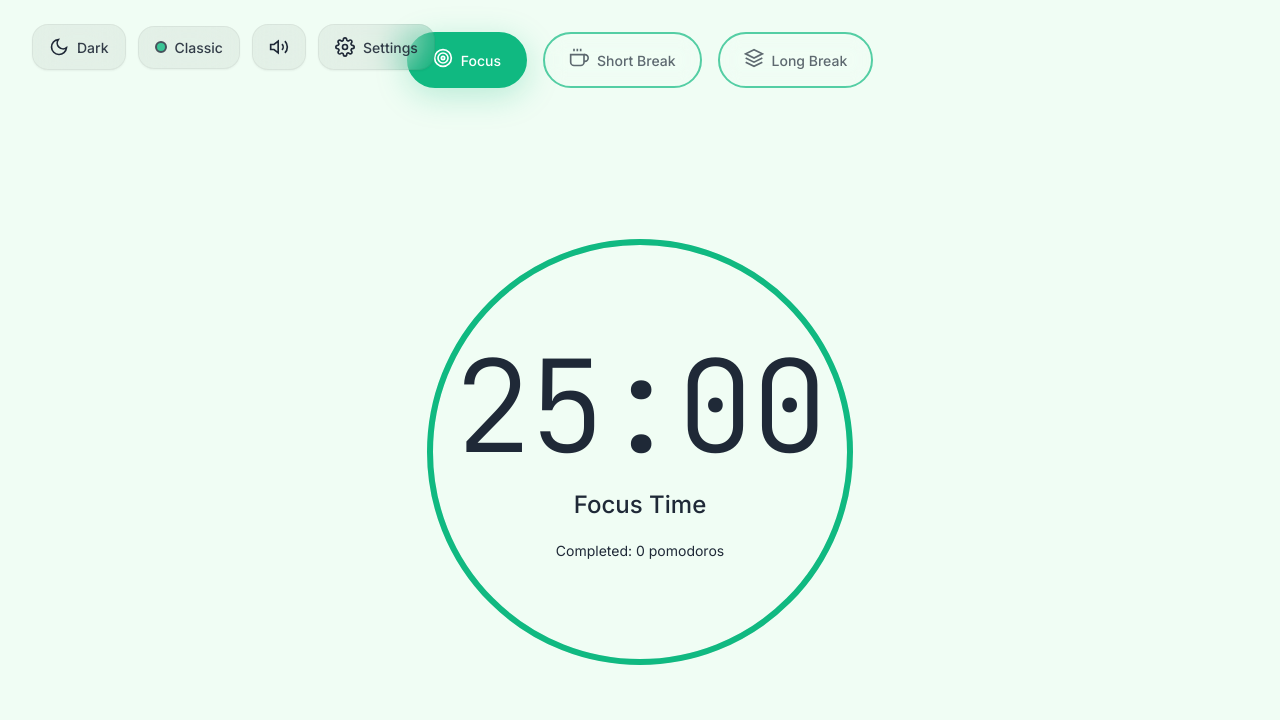
Test case: Pomodoro Timer App › Dark Mode Toggle › toggles between light and dark mode
Click the button "Dark".
click(79, 47)  # box [32,24,126,70]
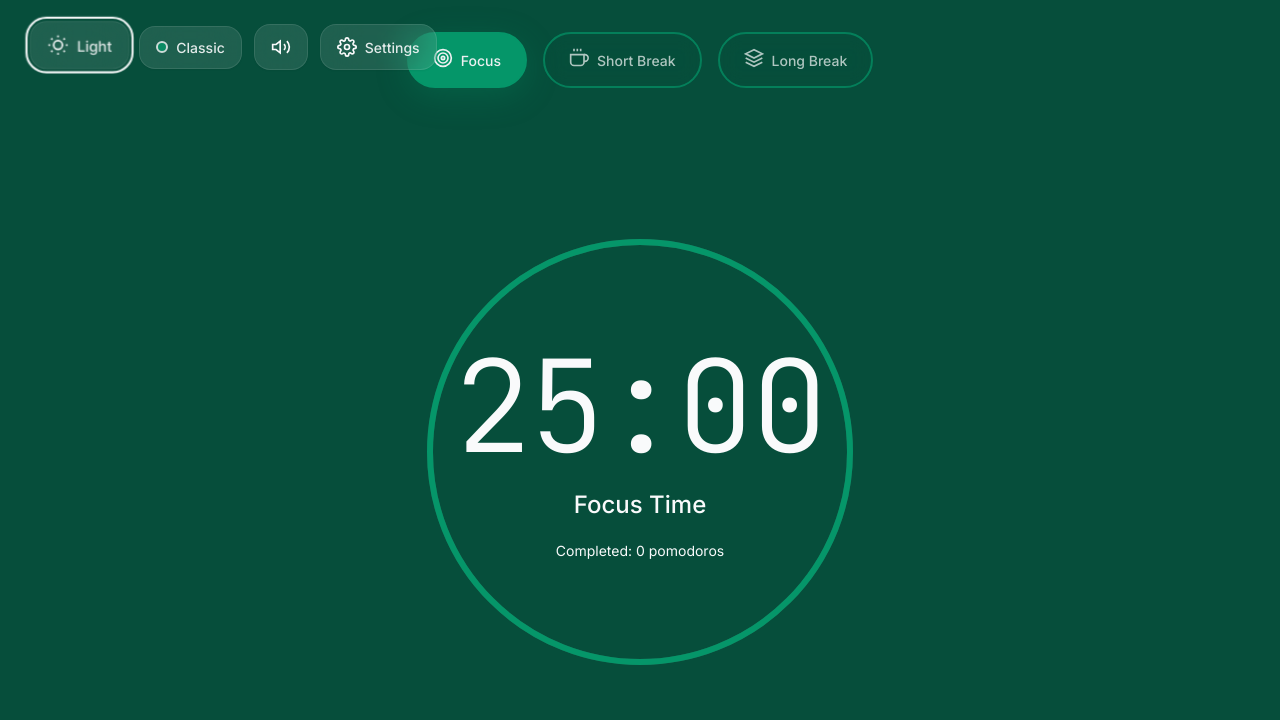
Expected: the button "Light" is shown, [77,36,112,54]
Click the button "Light".
click(80, 45)  # box [30,21,130,69]
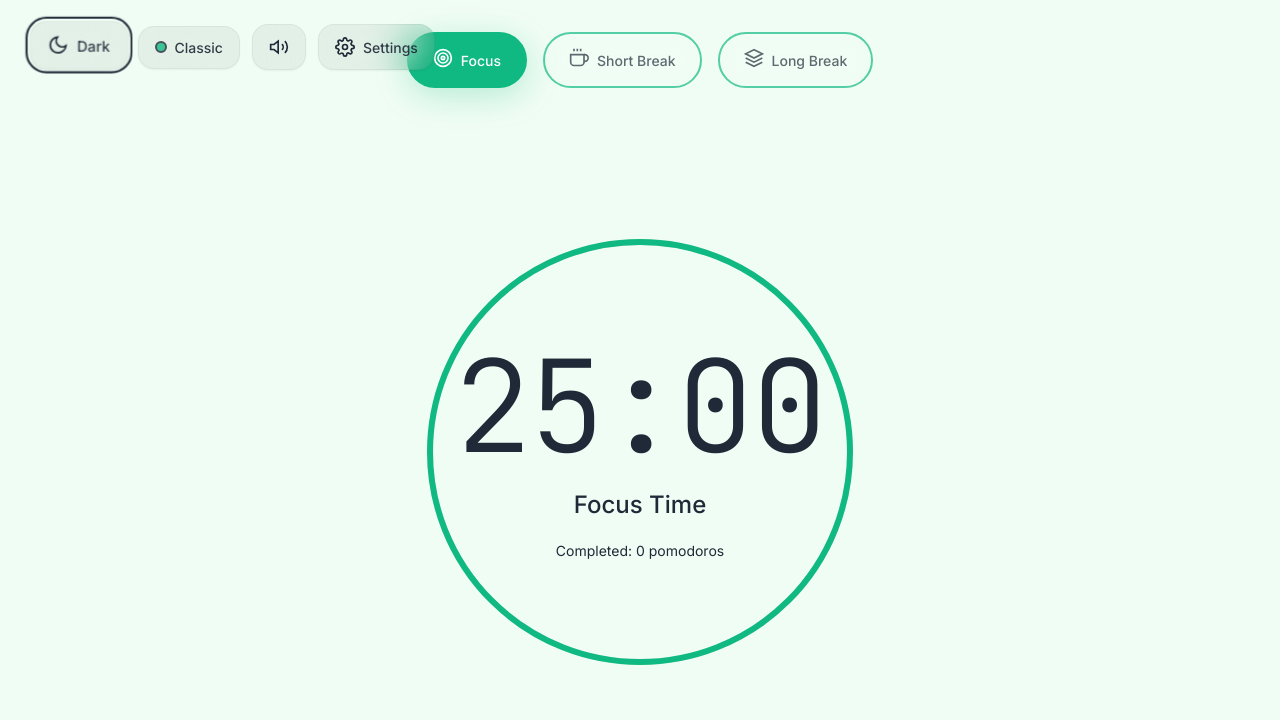
Expected: the button "Dark" is shown, [77,36,110,54]
